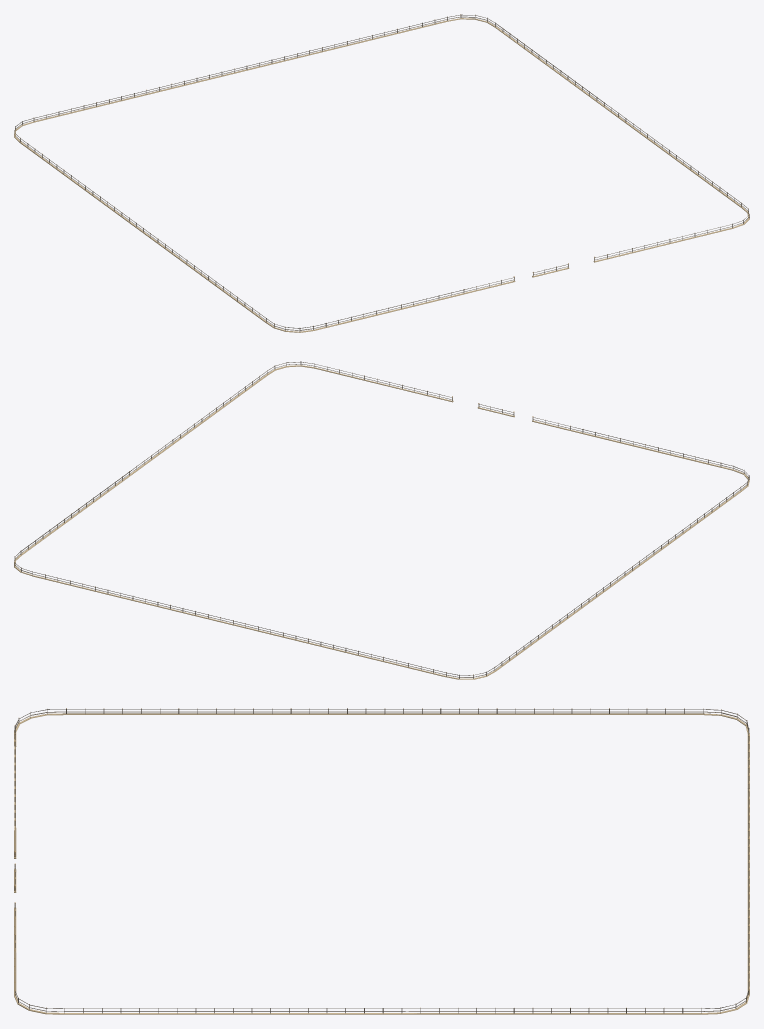
File: shore-rails.glb
3 views of the same model, one above another, from view 1: azimuth 30°, elevation 25°; view 2: azimuth 150°, elevation 25°; view 3: azimuth 270°, elevation 25° (orthographic). The views are drawn at different scales.
Visible parts, largest first — view 1: Rail_GraphiteBronze, Rail_Sandstone; view 2: Rail_GraphiteBronze, Rail_Sandstone; view 3: Rail_GraphiteBronze, Rail_Sandstone.
Boxes of the visible parts, bbox=[...] form: Rail_GraphiteBronze: bbox=[14, 14, 749, 331]; Rail_Sandstone: bbox=[14, 18, 749, 332]; Rail_GraphiteBronze: bbox=[14, 361, 749, 678]; Rail_Sandstone: bbox=[14, 365, 749, 679]; Rail_GraphiteBronze: bbox=[14, 708, 749, 1013]; Rail_Sandstone: bbox=[14, 713, 749, 1014].
Size of the model in its own units: 115 by 1.28 by 119.
